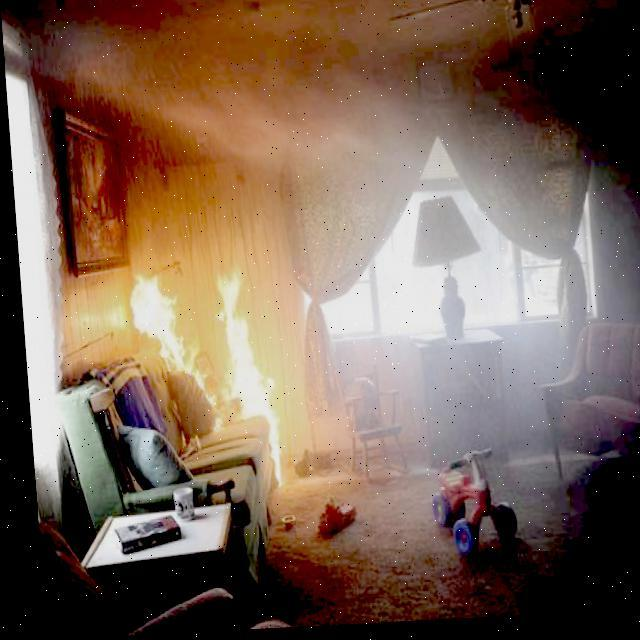Fire: (124, 260, 277, 492)
